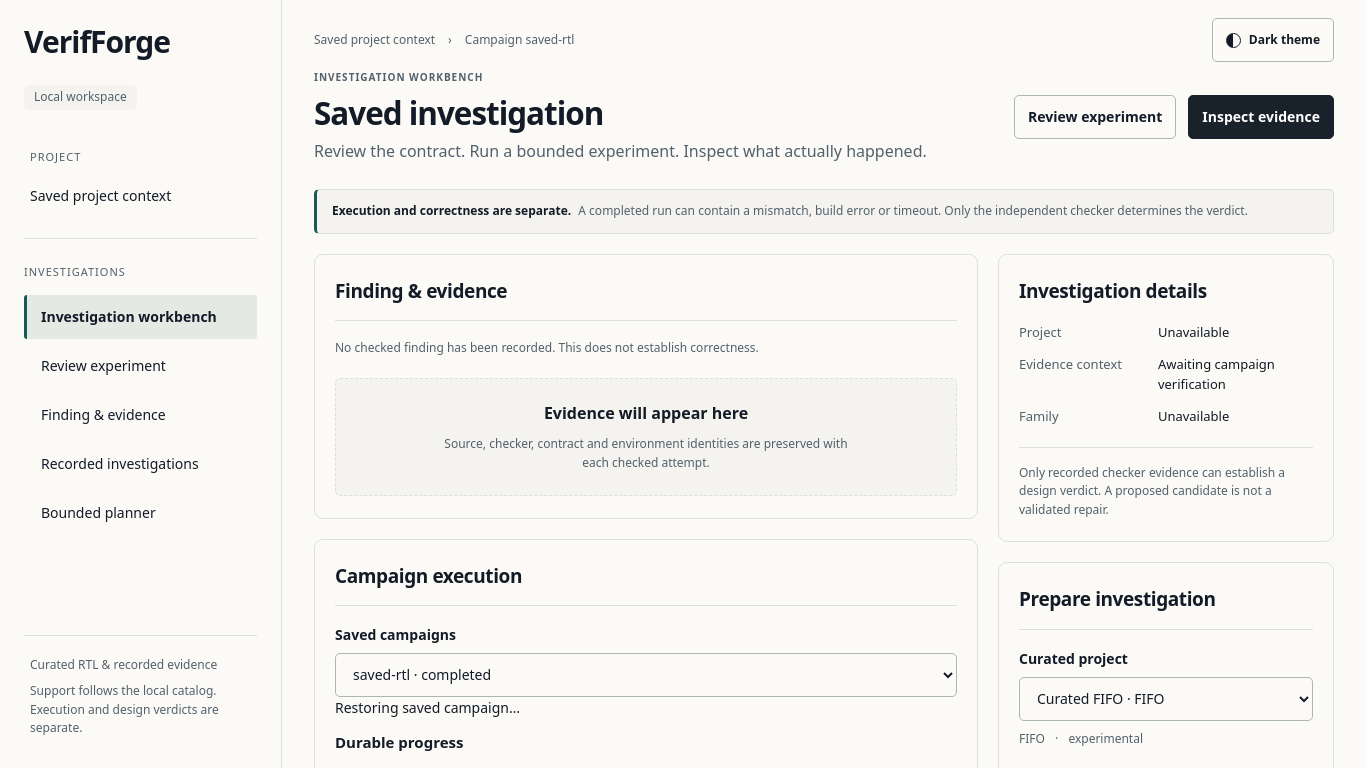
Scenario: does not restore old campaign context when its delayed fetch resolves after an explicit project switch
The width and height of the screenshot is (1366, 768).
Select "Recorded board · Recorded engineering" in the dropdown labelled "Curated project": (1166, 698) [1019, 676, 1313, 720]
(page scrolled)
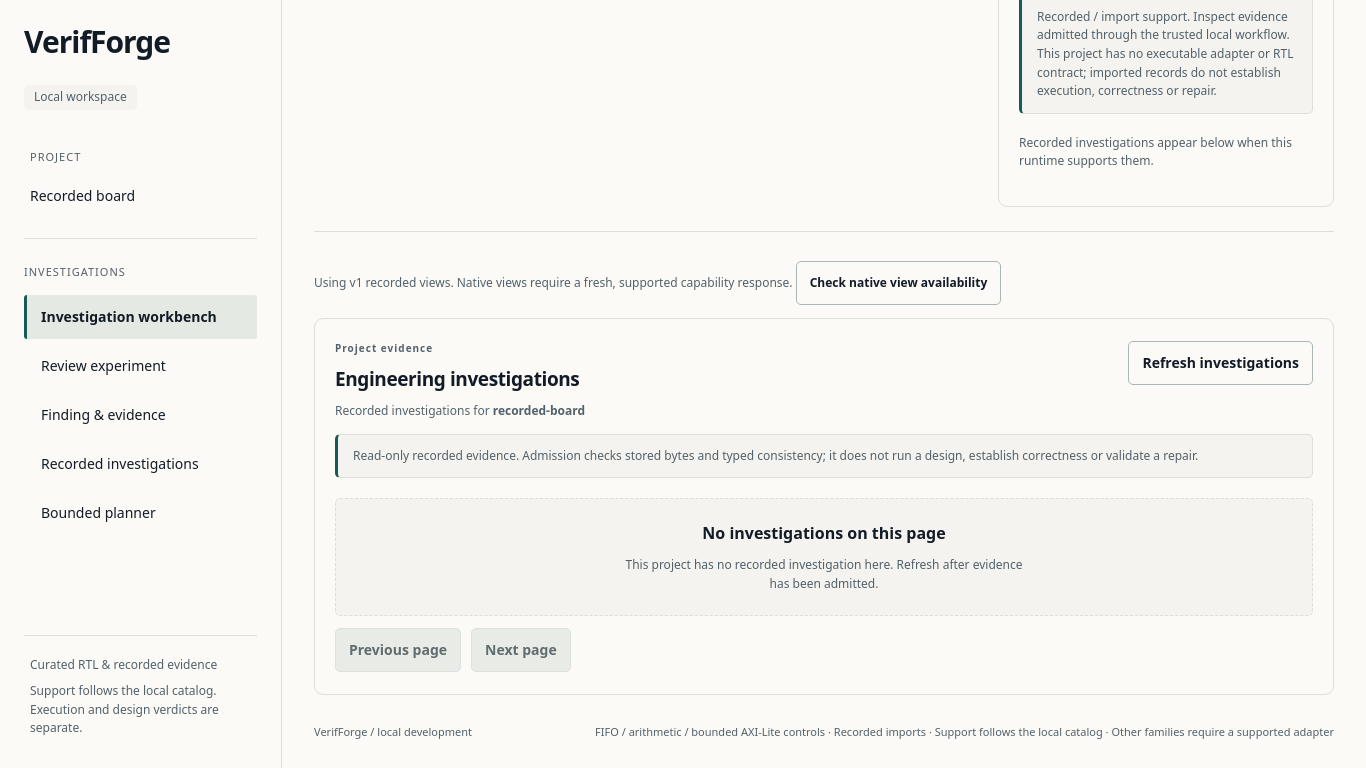
Check: the text "Recorded investigations for recorded-board" is shown, box [335, 402, 585, 421]
